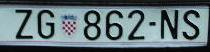-: (148, 21, 157, 27)
2: (128, 10, 146, 41)
6: (106, 9, 123, 40)
8: (83, 10, 101, 40)
G: (37, 9, 55, 39)
N: (160, 9, 179, 41)
S: (182, 9, 200, 41)
Z: (14, 8, 34, 40)
